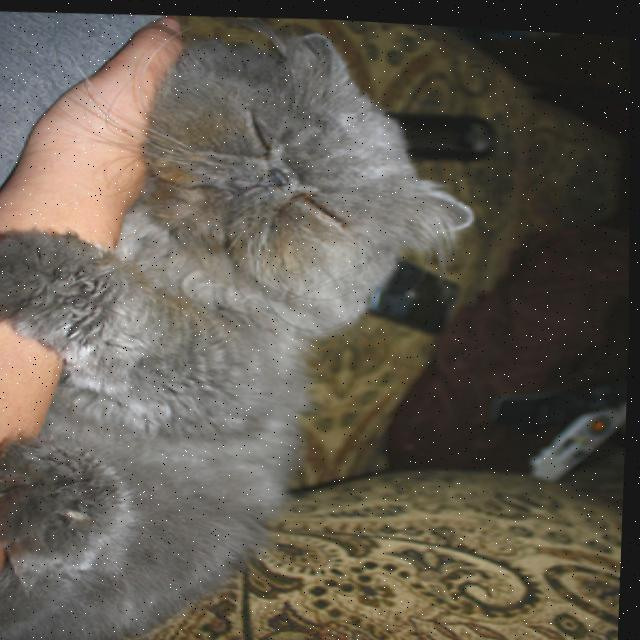Persian: (0, 4, 504, 640)
